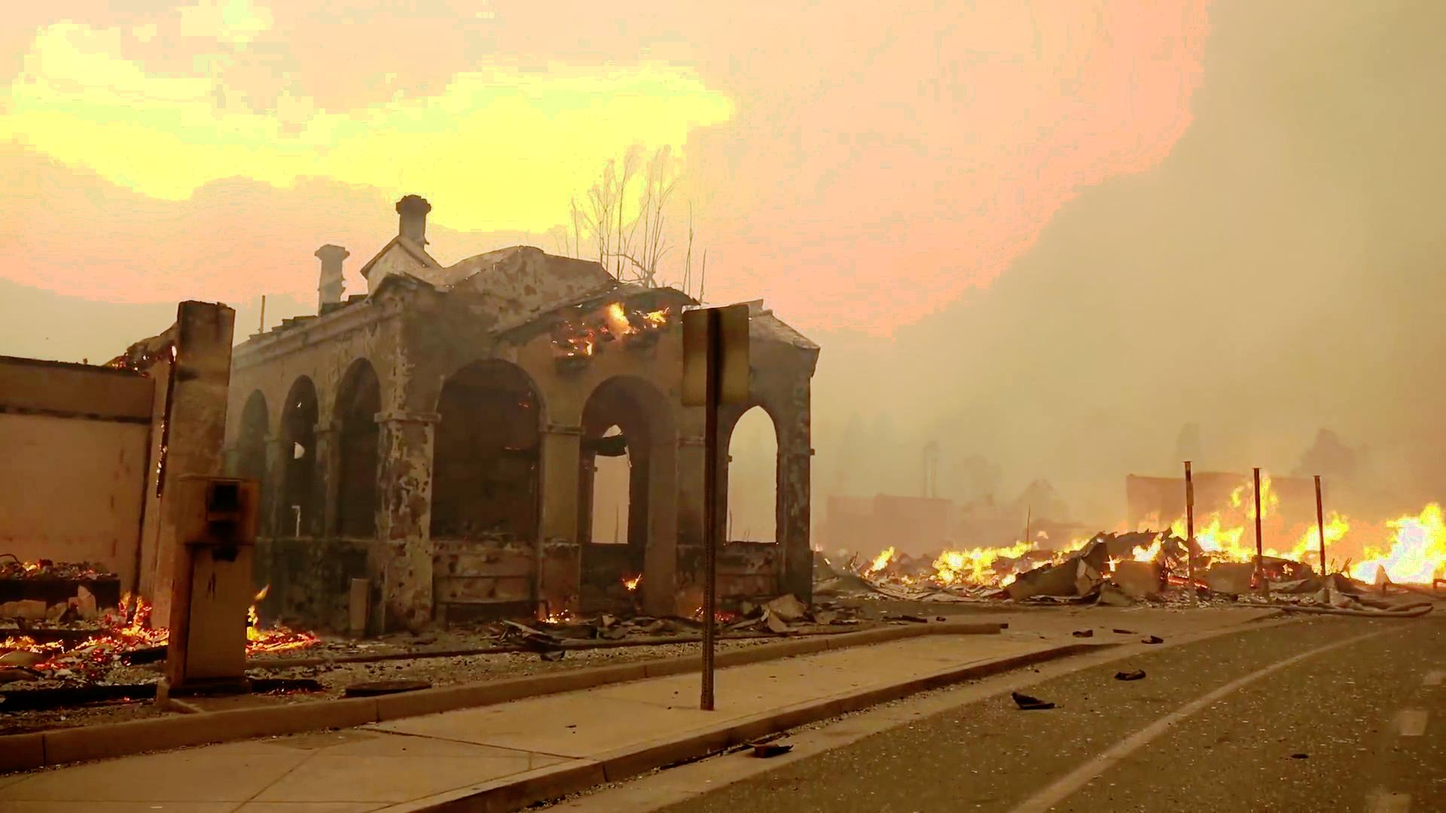fire: (1203, 469, 1338, 569), (1354, 486, 1446, 583)
